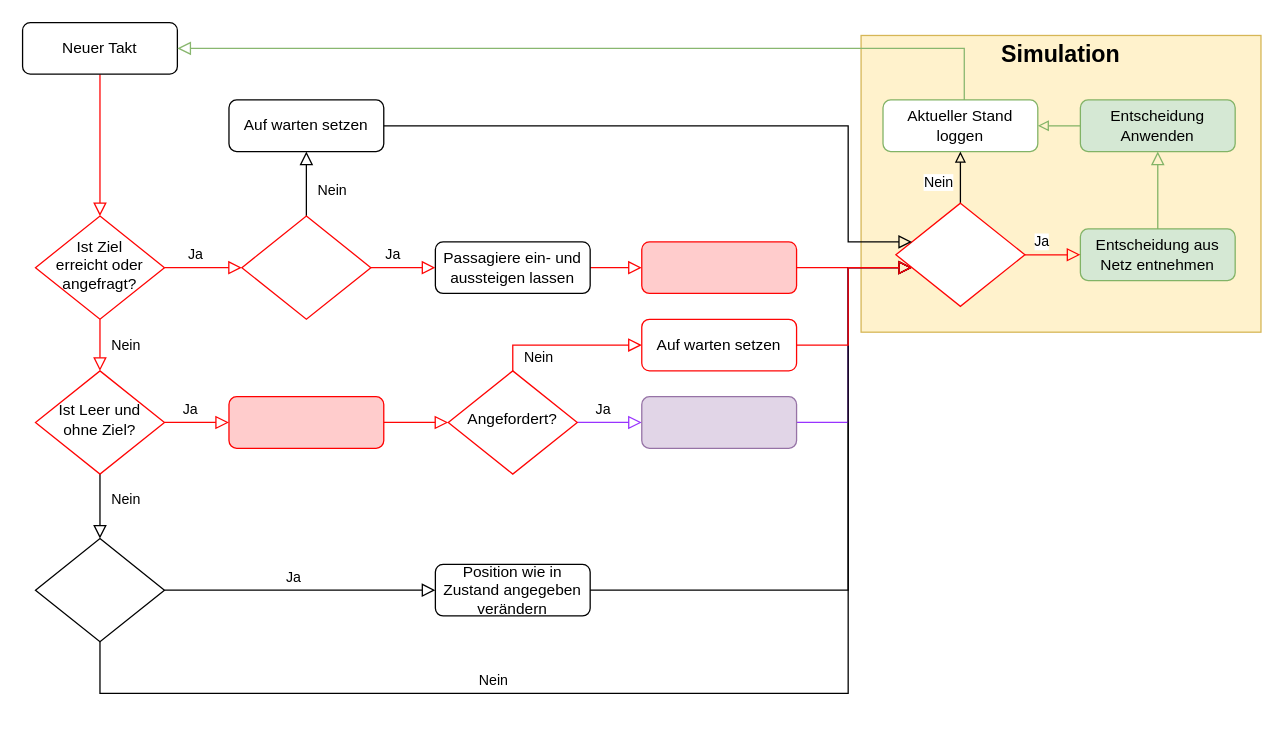
Image size: 1284x729. Some labels were removed from this diagram. Each missing label, with the centre of its shape:
"Ist noch nicht am Ziel?" belongs at (99,589).
"Neue Ziel-Etage ermitteln" belongs at (718,267).
"Neue Ziel-Etage setzen" belongs at (718,421).
"RL ?" belongs at (960,254).
"Schauen ob angefordert" belongs at (306,421).
"Zustand: Warten?" belongs at (306,267).
